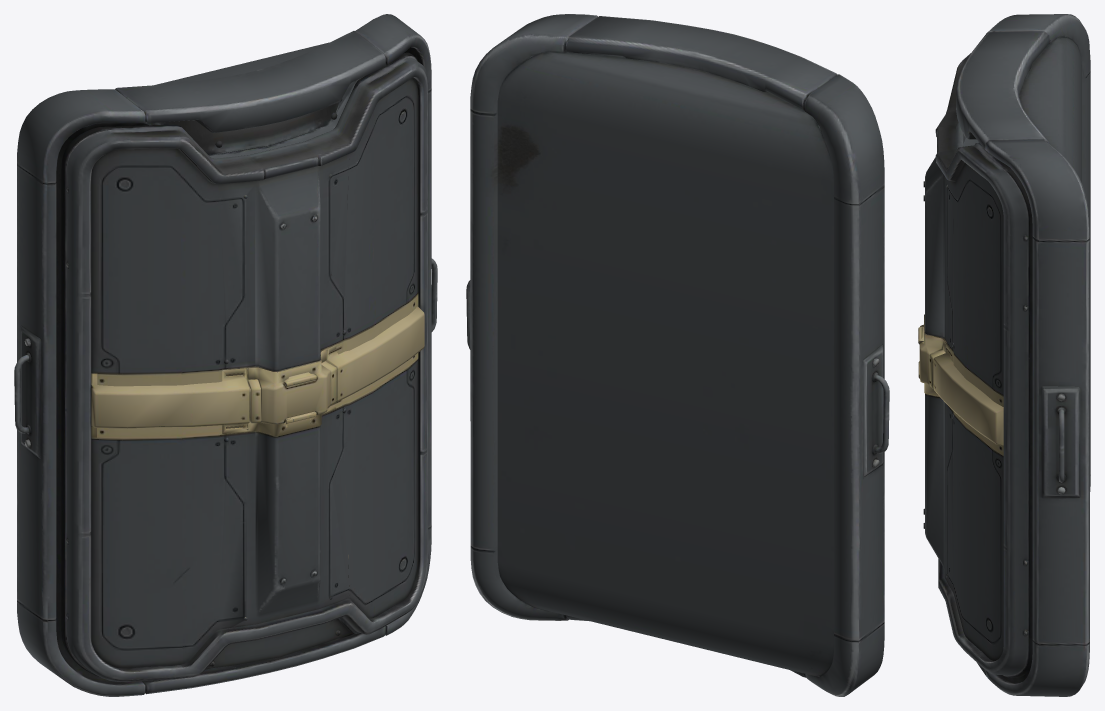
Rendered from selected.fbx.
3 views of the same model, side by side, from view 1: azimuth 30°, elevation 25°; view 2: azimuth 150°, elevation 25°; view 3: azimuth 270°, elevation 25° (orthographic). The views are drawn at different scales.
Parts seen in each view (by area): view 1: tripo_node_24c84db7-bb68-4c60-95c2-f79af8eae876; view 2: tripo_node_24c84db7-bb68-4c60-95c2-f79af8eae876; view 3: tripo_node_24c84db7-bb68-4c60-95c2-f79af8eae876.
Boxes of the visible parts, box(x1,y1,x2,y2) form: tripo_node_24c84db7-bb68-4c60-95c2-f79af8eae876: box(14, 14, 437, 696); tripo_node_24c84db7-bb68-4c60-95c2-f79af8eae876: box(466, 14, 889, 696); tripo_node_24c84db7-bb68-4c60-95c2-f79af8eae876: box(918, 14, 1090, 696).
Size of the model in its own units: 0.7544 by 0.9995 by 0.2876.
Materials: 1 (1 with a texture image).
